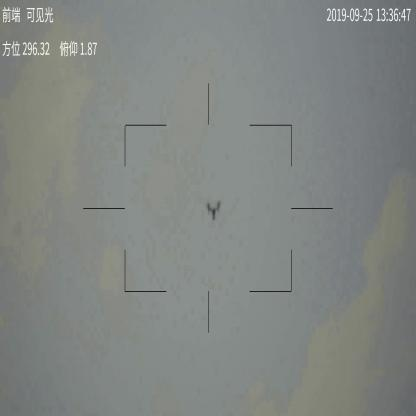uav: (206, 195, 223, 223)
